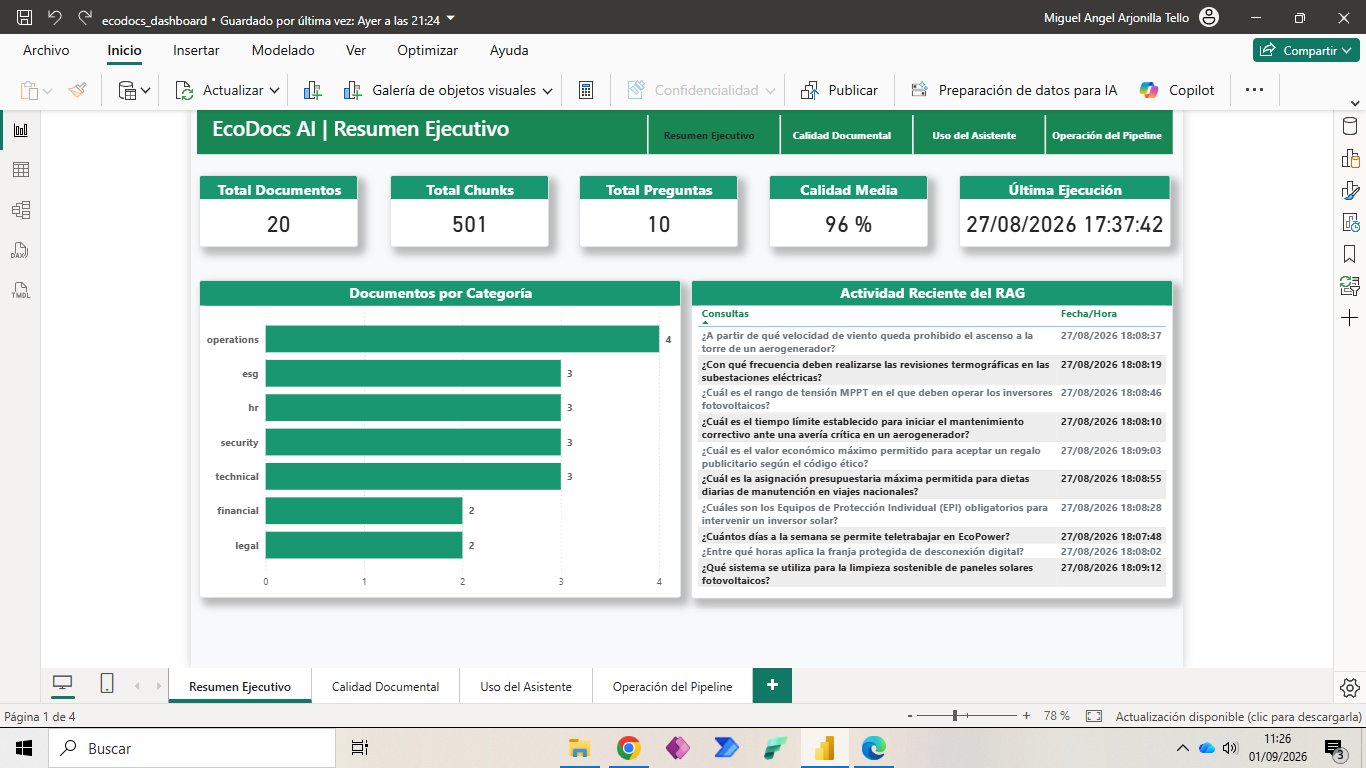

What the dashboard file says about the page in this screenshot:
{"tool":"powerbi","page":{"name":"Resumen Ejecutivo","canvas":[1280,720],"ordinal":0},"visuals":[{"type":"textbox","box":[7.7,0,1259.4,56.8],"z":0},{"type":"card","title":"Total Documentos","fields":{"Values":["_Medidas.Total_Documentos"]},"box":[10.9,83.6,205.5,92.7],"z":1000},{"type":"card","title":"Total Chunks","fields":{"Values":["_Medidas.Total_Chunks"]},"box":[256.2,83.6,205,92.7],"z":2000},{"type":"card","title":"Total Preguntas","fields":{"Values":["_Medidas.Total_Preguntas"]},"box":[501.1,83.6,205,92.7],"z":3000},{"type":"card","title":"Calidad Media","fields":{"Values":["_Medidas.Calidad_Media"]},"box":[746,83.6,205,92.7],"z":4000},{"type":"card","title":"Última Ejecución","fields":{"Values":["_Medidas.Ultima_Ejecucion"]},"box":[990.9,83.6,272.7,92.7],"z":5000},{"type":"clusteredBarChart","title":"Documentos por Categoría","fields":{"Category":["silver_documents.document_category"],"Y":["_Medidas.Total_Documentos"]},"box":[10.9,220,621.8,410],"z":6000},{"type":"tableEx","title":"Actividad Reciente del RAG","fields":{"Values":["gold_questions.question_text","gold_questions.created_at"]},"box":[645.5,220,621.8,410.9],"z":7000},{"type":"pageNavigator","box":[588.4,6.5,674.8,50.3],"z":8000}]}

Visuals, with their boxes on the page's 1280x720 design canvas (x1, y1, x2, y2). These are canvas units, not pixel positions in the 1366x768 screenshot, which may show the page scaled, cropped or inside an application window:
textbox: bbox(8, 0, 1267, 57)
"Total Documentos" card: bbox(11, 84, 216, 176)
"Total Chunks" card: bbox(256, 84, 461, 176)
"Total Preguntas" card: bbox(501, 84, 706, 176)
"Calidad Media" card: bbox(746, 84, 951, 176)
"Última Ejecución" card: bbox(991, 84, 1264, 176)
"Documentos por Categoría" clusteredBarChart: bbox(11, 220, 633, 630)
"Actividad Reciente del RAG" tableEx: bbox(646, 220, 1267, 631)
pageNavigator: bbox(588, 6, 1263, 57)
